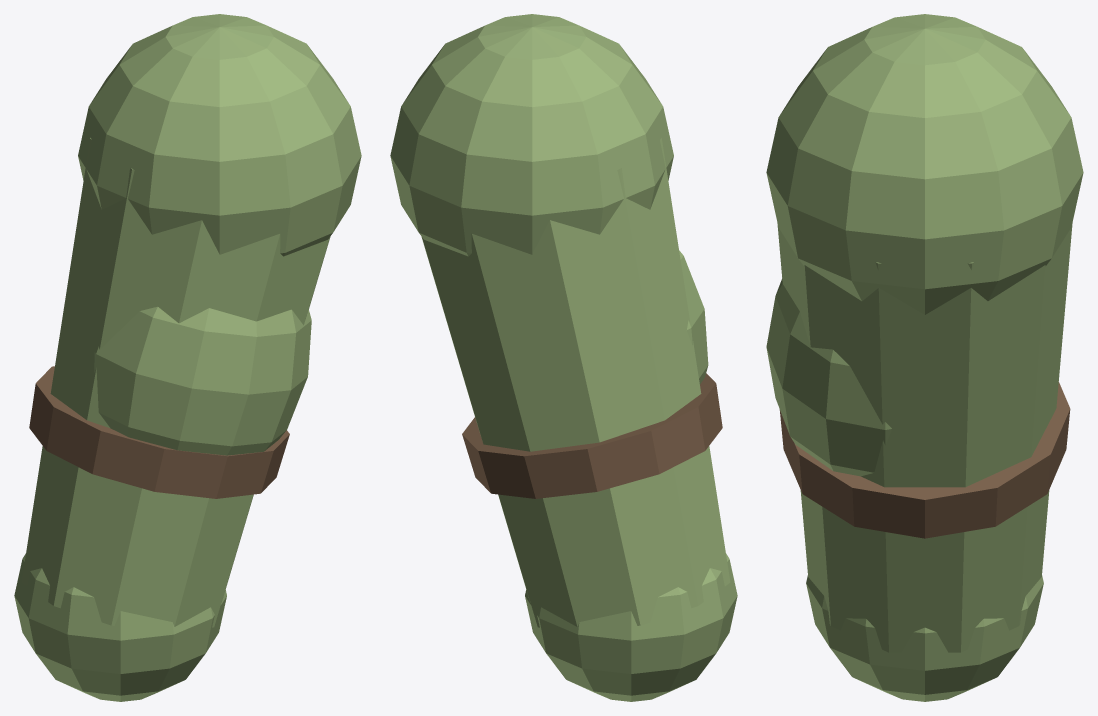
File: SM_Orc_UpperArm_R.fbx
3 renders of one model, left to right at view 1: azimuth 30°, elevation 25°; view 2: azimuth 150°, elevation 25°; view 3: azimuth 270°, elevation 25°, orthographic. The views are drawn at different scales.
Visible parts, largest first — view 1: SM_Orc_UpperArm_R; view 2: SM_Orc_UpperArm_R; view 3: SM_Orc_UpperArm_R.
Part boxes in pixels (bbox=[...]): SM_Orc_UpperArm_R: bbox=[14, 14, 361, 701]; SM_Orc_UpperArm_R: bbox=[390, 14, 737, 701]; SM_Orc_UpperArm_R: bbox=[766, 14, 1083, 701].
Bounding box in the file's own units: 0.3068 × 0.5981 × 0.24.
